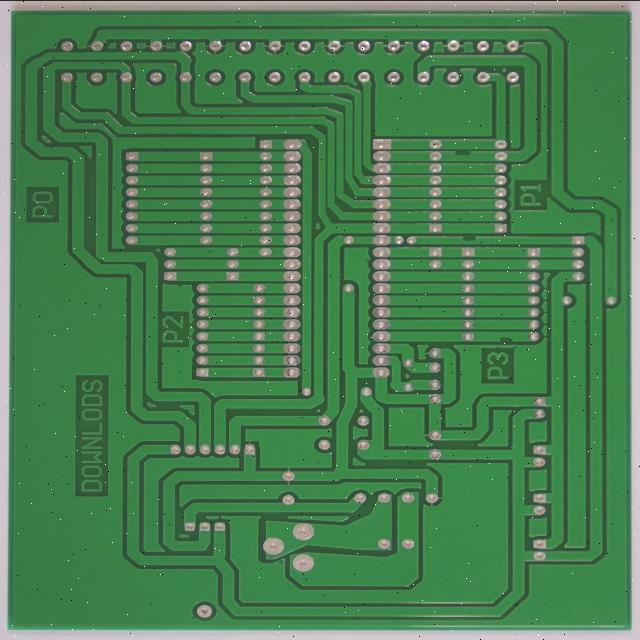mouse_bite: (435, 154, 460, 168), (446, 244, 466, 258), (485, 352, 507, 363)
